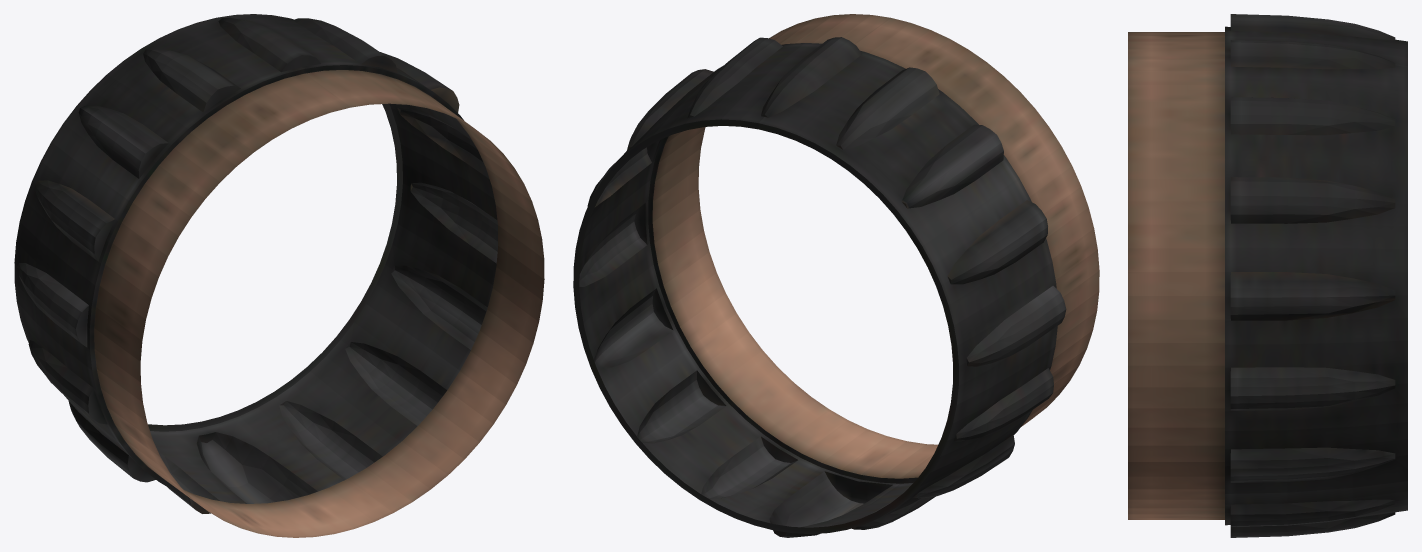
3 views of the same model, side by side, from view 1: azimuth 30°, elevation 25°; view 2: azimuth 150°, elevation 25°; view 3: azimuth 270°, elevation 25° (orthographic). The views are drawn at different scales.
Visible parts, largest first — view 1: TW_62850c28da09541f43158cca_PZ_Import; view 2: TW_62850c28da09541f43158cca_PZ_Import; view 3: TW_62850c28da09541f43158cca_PZ_Import.
Part boxes in pixels (<box>): TW_62850c28da09541f43158cca_PZ_Import: <box>14,14,544,537</box>; TW_62850c28da09541f43158cca_PZ_Import: <box>573,14,1099,537</box>; TW_62850c28da09541f43158cca_PZ_Import: <box>1128,14,1407,537</box>.
Size of the model in its own units: 0.026 by 0.0139 by 0.0266.
Materials: 1 (1 with a texture image).
